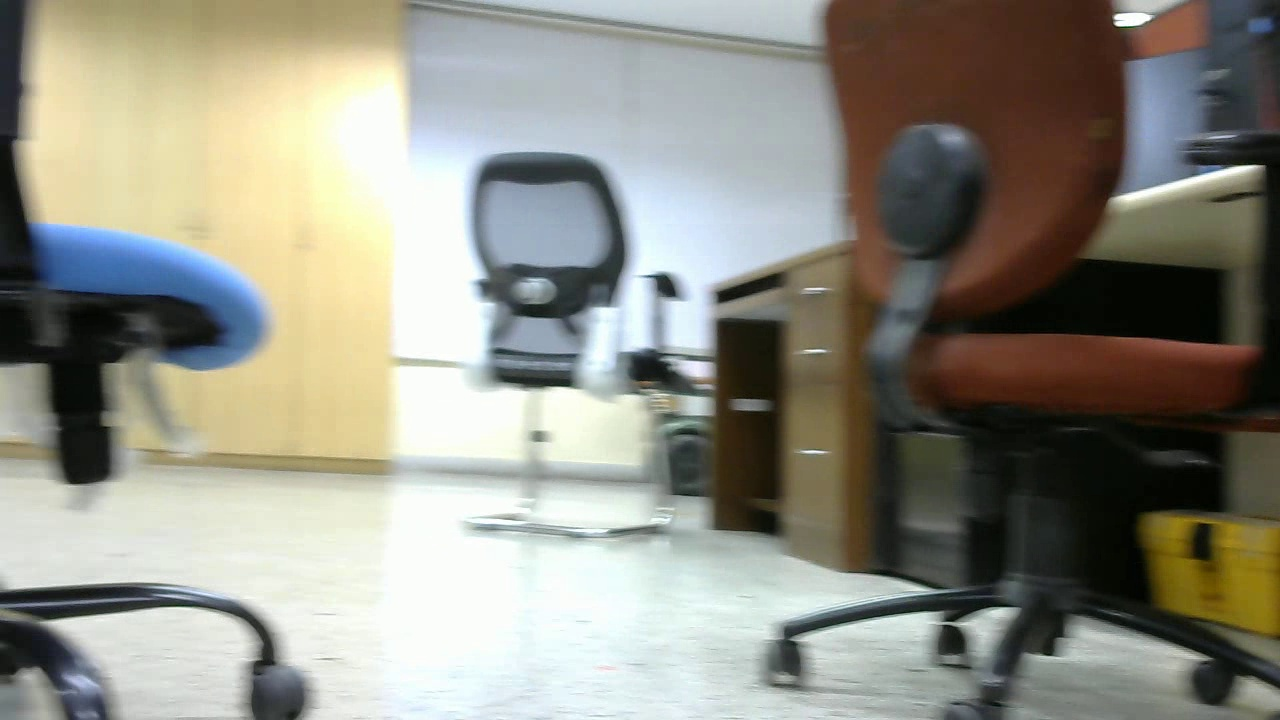chair: (764, 1, 1280, 720), (446, 146, 705, 576)
